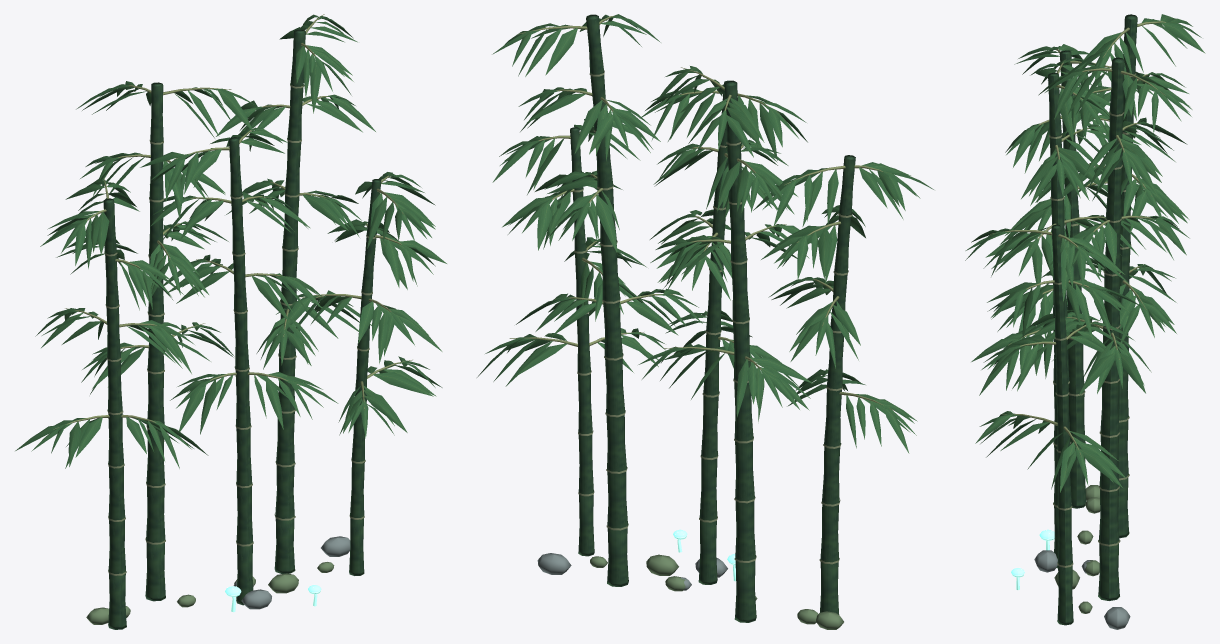
File: nyanisyarud-bamboo-a.glb
3 renders of one model, left to right at view 1: azimuth 30°, elevation 25°; view 2: azimuth 150°, elevation 25°; view 3: azimuth 270°, elevation 25°, orthographic. The views are drawn at different scales.
Parts seen in each view (by area): view 1: Silken bamboo leaves, Jade bamboo, Branches, Raised bamboo nodes, Moss green, Slate stone; view 2: Silken bamboo leaves, Jade bamboo, Branches, Moss green, Raised bamboo nodes, Slate stone; view 3: Silken bamboo leaves, Jade bamboo, Branches, Moss green, Slate stone, Raised bamboo nodes.
Part boxes in pixels (<box>): Silken bamboo leaves: <box>15,14,446,468</box>; Jade bamboo: <box>103,29,381,629</box>; Branches: <box>53,14,412,429</box>; Raised bamboo nodes: <box>104,83,375,575</box>; Moss green: <box>86,562,334,624</box>; Slate stone: <box>233,536,350,609</box>; Silken bamboo leaves: <box>477,14,933,453</box>; Jade bamboo: <box>570,14,855,622</box>; Branches: <box>509,16,894,410</box>; Moss green: <box>590,554,843,629</box>; Raised bamboo nodes: <box>574,71,852,564</box>; Slate stone: <box>537,553,727,590</box>; Silken bamboo leaves: <box>965,14,1205,492</box>; Jade bamboo: <box>1048,14,1137,625</box>; Branches: <box>990,21,1165,456</box>; Moss green: <box>1054,485,1100,613</box>; Slate stone: <box>1034,550,1130,629</box>; Raised bamboo nodes: <box>1049,73,1136,567</box>.
Bounding box in the file's own units: 5.24 × 6.53 × 2.61.
Materials: 9 (2 with a texture image).
